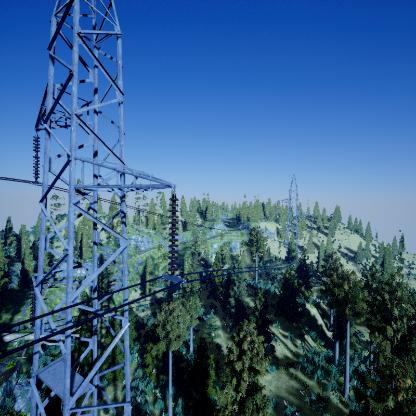insulator: (167, 195, 181, 273), (31, 134, 42, 184)
